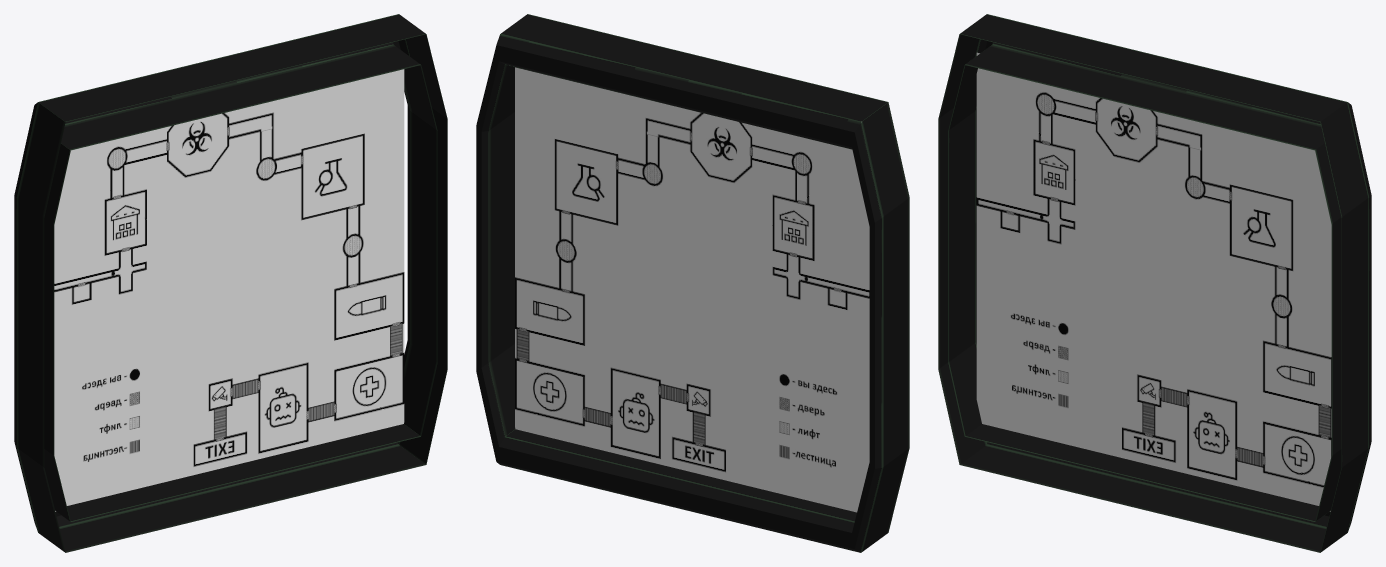
Rendered from map.fbx.
The picture shows the model from 3 angles, left to right: view 1: azimuth 30°, elevation 25°; view 2: azimuth 150°, elevation 25°; view 3: azimuth 330°, elevation 25°; orthographic projection.
Visible parts, largest first — view 1: Plane, display; view 2: Plane, display; view 3: Plane, display.
Part boxes in pixels (x1,y1,x2,y2): Plane: (54,69,404,511); display: (14,14,447,552); Plane: (515,67,869,512); display: (476,14,909,552); Plane: (976,52,1331,511); display: (938,14,1371,552).
Bounding box in the file's own units: 259 × 265 × 36.22.
